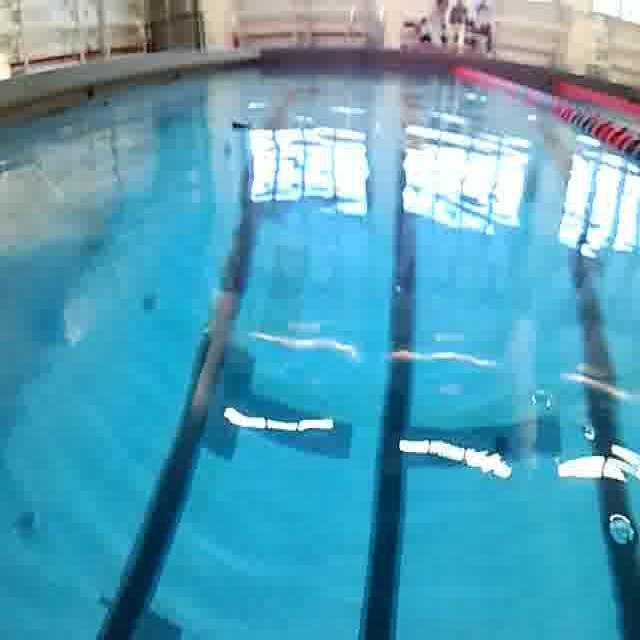CamMount: (226, 114, 253, 140)
